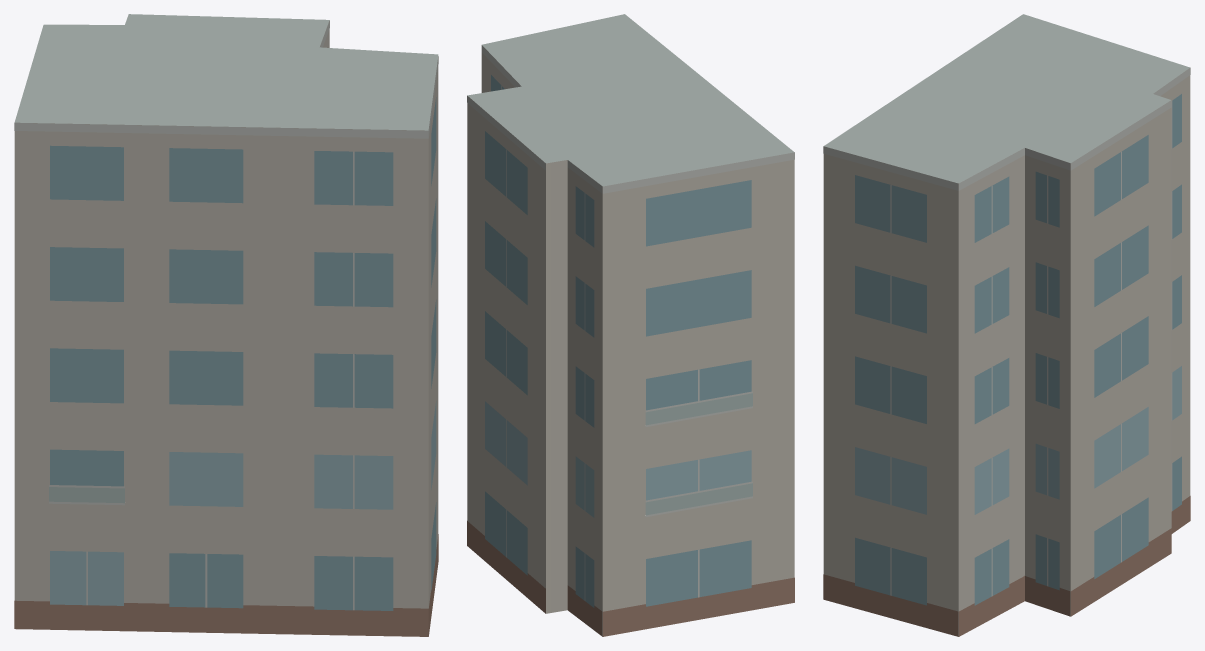
File: survey-upis-32992356.glb
The picture shows the model from 3 angles, left to right: view 1: azimuth 30°, elevation 25°; view 2: azimuth 150°, elevation 25°; view 3: azimuth 270°, elevation 25°; orthographic projection. The views are drawn at different scales.
Parts seen in each view (by area): view 1: survey-upis-32992356.tmp; view 2: survey-upis-32992356.tmp; view 3: survey-upis-32992356.tmp.
Part boxes in pixels (bbox=[...]): survey-upis-32992356.tmp: bbox=[14, 14, 438, 636]; survey-upis-32992356.tmp: bbox=[467, 14, 794, 636]; survey-upis-32992356.tmp: bbox=[823, 14, 1190, 636].
Size of the model in its own units: 12.04 by 15 by 11.01.
